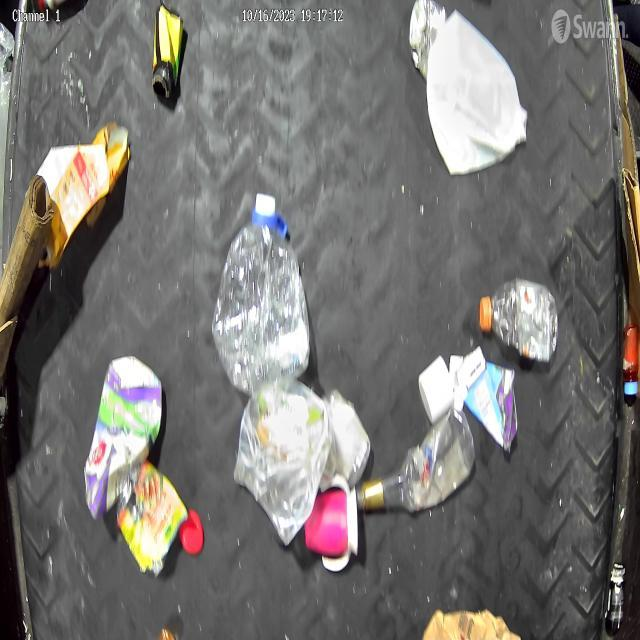can: (408, 0, 448, 78)
milk_jug: (421, 9, 534, 174)
non_white_jug: (83, 358, 165, 524)
plastic_bottle: (211, 186, 313, 402), (357, 411, 477, 512), (479, 271, 562, 365)
